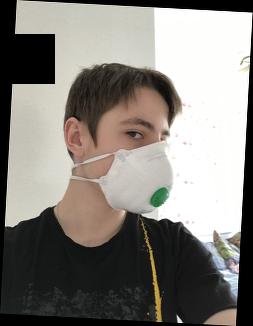with_mask: (105, 101, 176, 214)
